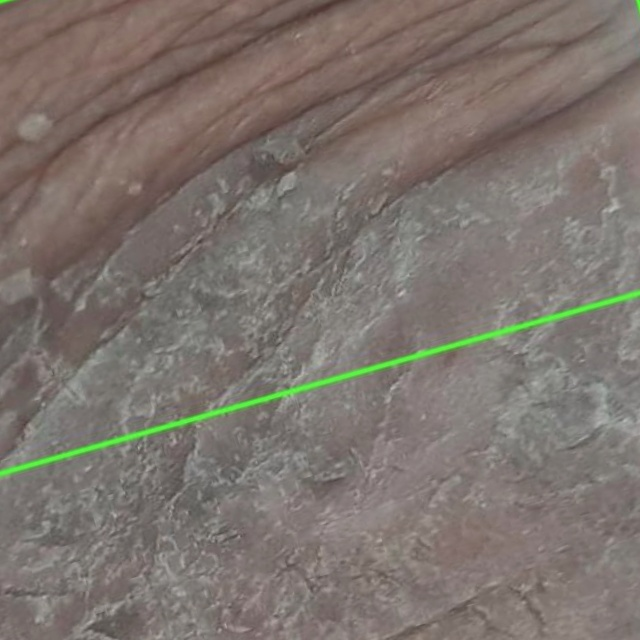Eczema: (0, 0, 639, 473)
